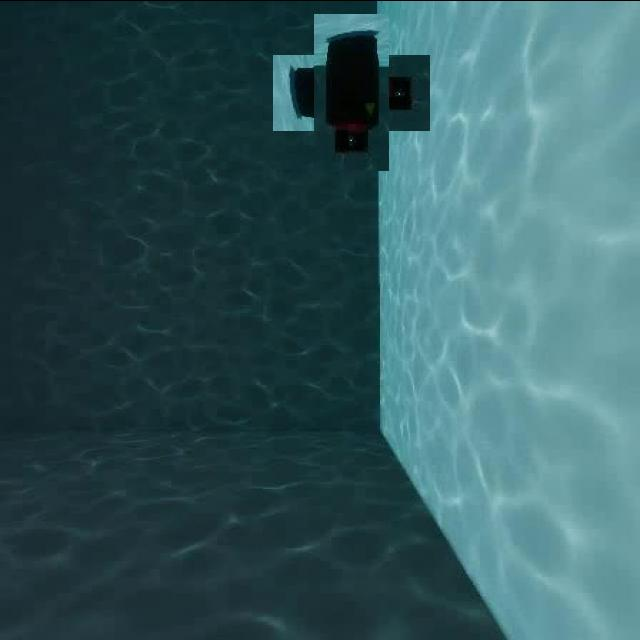Cylinder: (294, 34, 409, 150)
